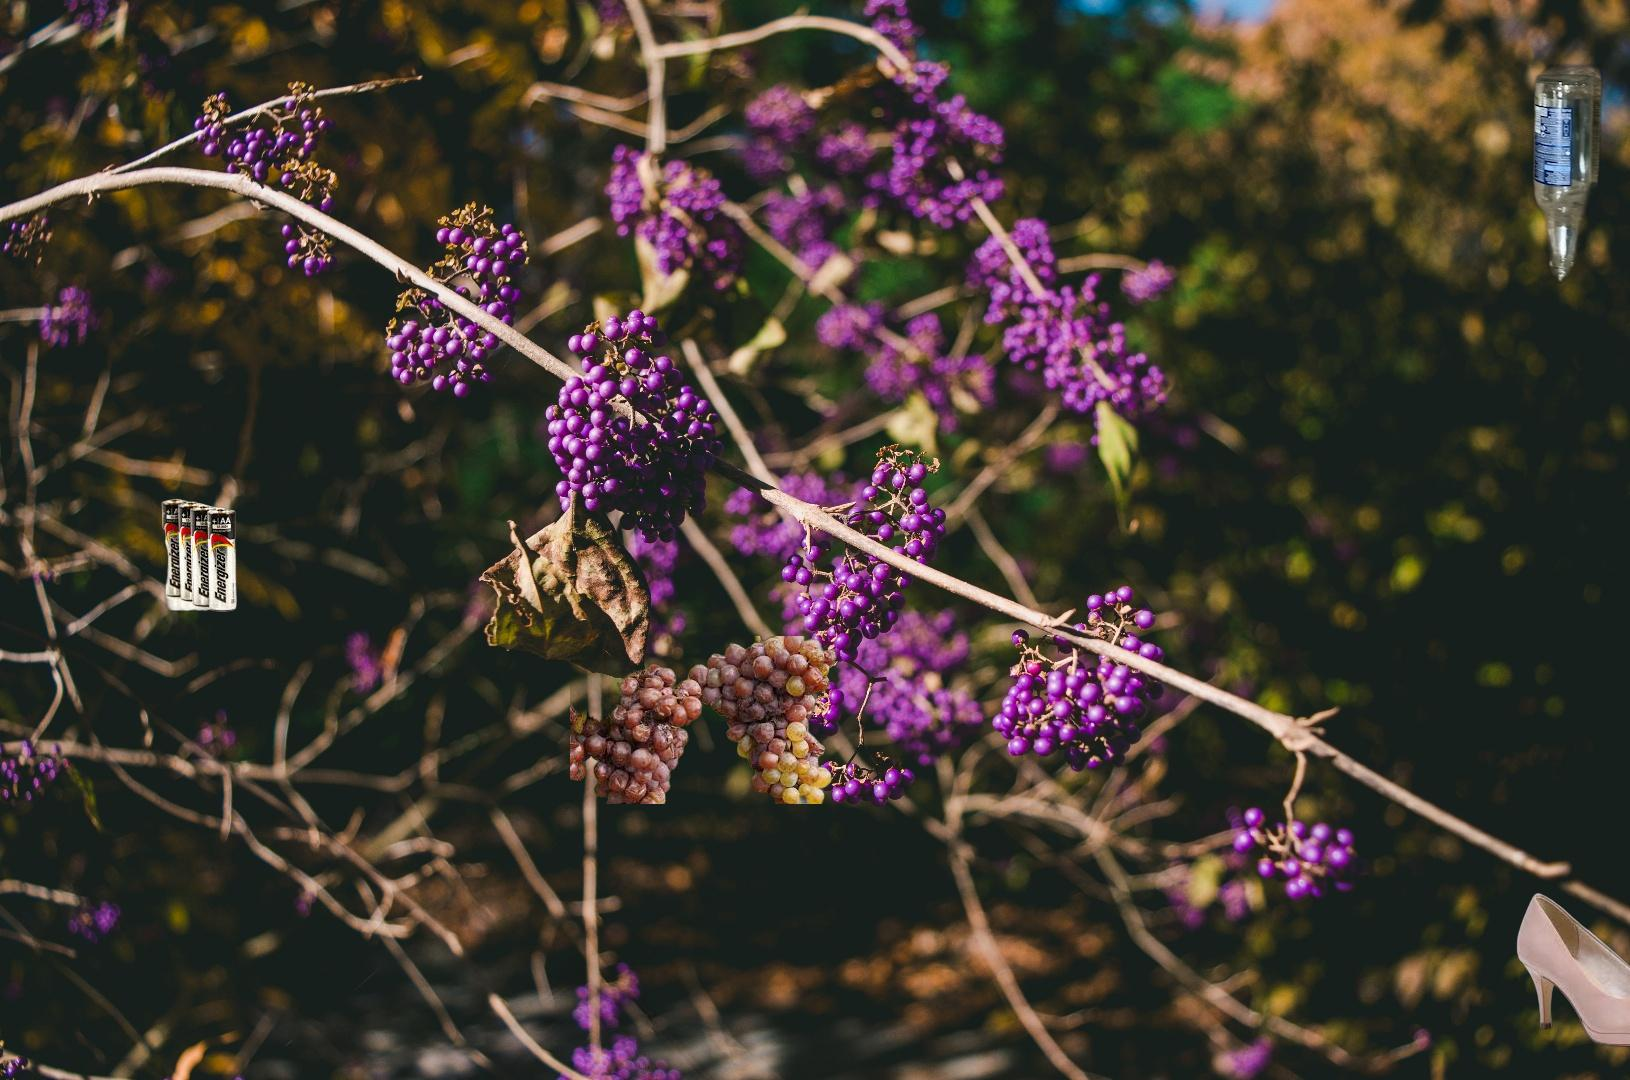battery: (159, 495, 240, 615)
biological: (570, 636, 869, 804)
glass: (486, 738, 998, 1080), (1529, 58, 1606, 289)
metal-cans: (1151, 645, 1390, 1080)
shoes: (1514, 890, 1630, 1050)
